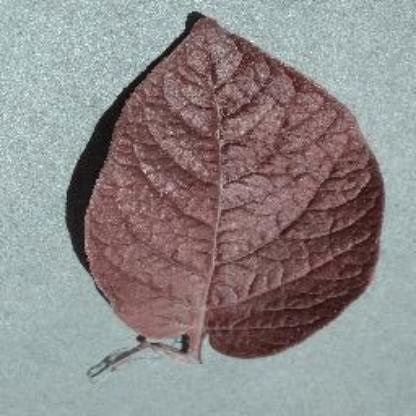Healthy-plant: (70, 11, 396, 374)
